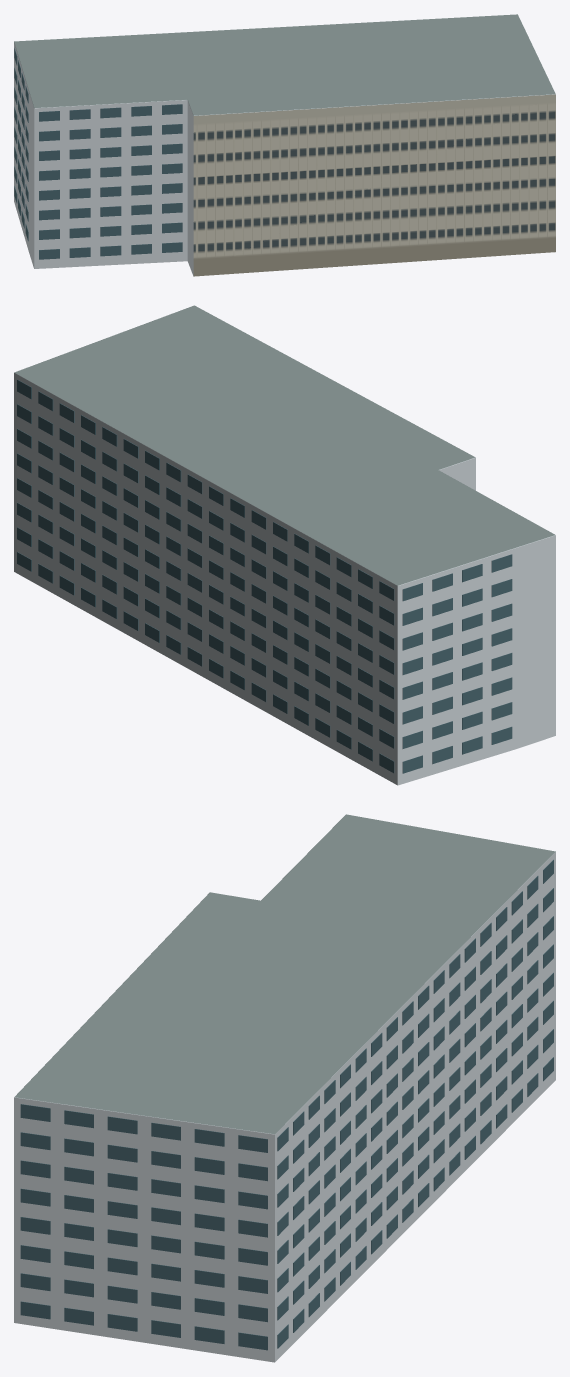
File: intact.glb
3 views of the same model, one above another, from view 1: azimuth 30°, elevation 25°; view 2: azimuth 150°, elevation 25°; view 3: azimuth 270°, elevation 25° (orthographic). The views are drawn at different scales.
Visible parts, largest first — view 1: SM_convergence_Intact_00, SM_convergence_Intact_01; view 2: SM_convergence_Intact_00, SM_convergence_Intact_01; view 3: SM_convergence_Intact_00, SM_convergence_Intact_01.
Boxes of the visible parts, x1=… form: SM_convergence_Intact_00: x1=14, y1=14, x2=555, y2=276; SM_convergence_Intact_01: x1=14, y1=48, x2=182, y2=259; SM_convergence_Intact_00: x1=14, y1=305, x2=555, y2=785; SM_convergence_Intact_01: x1=17, y1=379, x2=512, y2=773; SM_convergence_Intact_00: x1=14, y1=814, x2=555, y2=1362; SM_convergence_Intact_01: x1=20, y1=859, x2=553, y2=1350.
Size of the model in its own units: 2.2 by 0.7398 by 1.57.
Materials: 4 (1 with a texture image).
